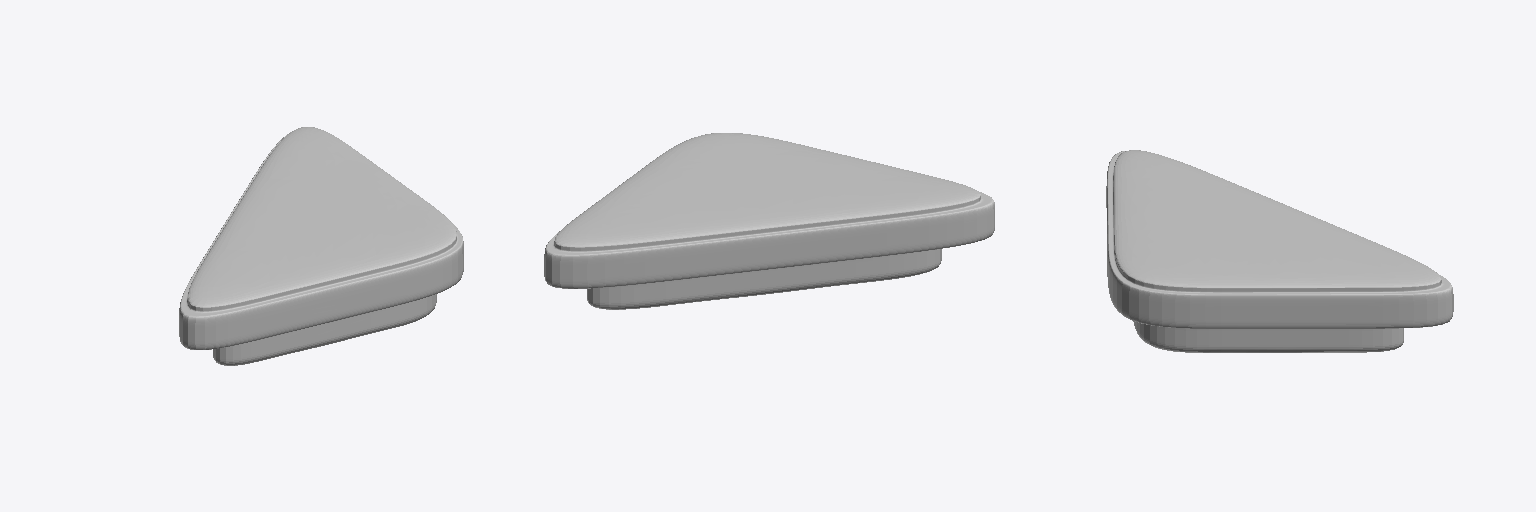
Rendered from RightSlingshot.obj.
3 views of the same model, side by side, from view 1: azimuth 30°, elevation 25°; view 2: azimuth 150°, elevation 25°; view 3: azimuth 270°, elevation 25° (orthographic).
Visible parts, largest first — view 1: Cube.001; view 2: Cube.001; view 3: Cube.001.
Boxes of the visible parts, box(x1,y1,x2,y2) form: Cube.001: box(179, 127, 463, 365); Cube.001: box(544, 133, 994, 309); Cube.001: box(1106, 150, 1453, 352).
Size of the model in its own units: 1.01 by 0.2677 by 1.01.